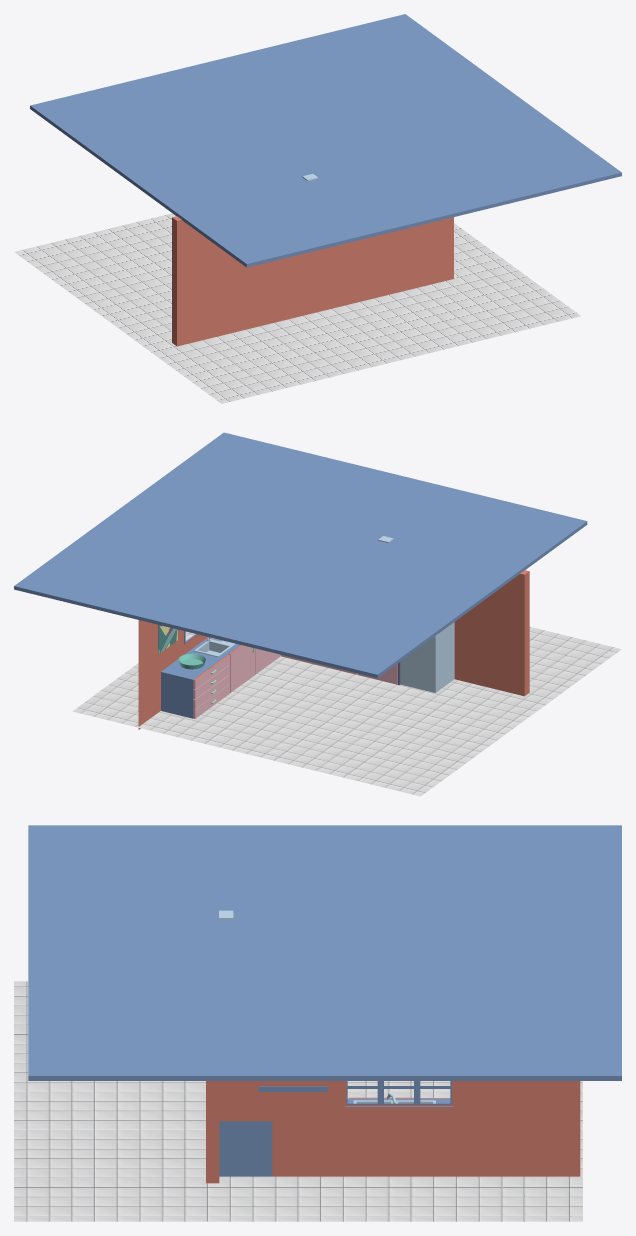
The model's file is kitchen.fbx.
3 renders of one model, top to bottom at view 1: azimuth 30°, elevation 25°; view 2: azimuth 150°, elevation 25°; view 3: azimuth 270°, elevation 25°, orthographic. The views are drawn at different scales.
Parts seen in each view (by area): view 1: Cube.051, Plane, Cube; view 2: Cube.051, Plane, Cube, Cube.001, Cube.015, Cube.005, Cube.004, Cube.028; view 3: Cube.051, Plane, Cube.001, Cube.019, Cube, Cube.049.
Part boxes in pixels (x1=…): Cube.051: x1=30, y1=14, x2=621, y2=267; Plane: x1=14, y1=213, x2=580, y2=403; Cube: x1=172, y1=216, x2=453, y2=346; Cube.051: x1=14, y1=432, x2=587, y2=678; Plane: x1=72, y1=627, x2=621, y2=796; Cube: x1=454, y1=570, x2=529, y2=696; Cube.001: x1=138, y1=620, x2=207, y2=729; Cube.015: x1=161, y1=637, x2=240, y2=718; Cube.005: x1=398, y1=634, x2=437, y2=692; Cube.004: x1=438, y1=622, x2=454, y2=690; Cube.028: x1=228, y1=645, x2=255, y2=692; Cube.051: x1=28, y1=825, x2=621, y2=1080; Plane: x1=14, y1=981, x2=582, y2=1221; Cube.001: x1=219, y1=1081, x2=580, y2=1176; Cube.019: x1=219, y1=1121, x2=272, y2=1176; Cube: x1=206, y1=1081, x2=219, y2=1183; Cube.049: x1=344, y1=1081, x2=453, y2=1106.
Bounding box in the file's own units: 2745 × 860 × 2602.
4 materials, 4 textured.
